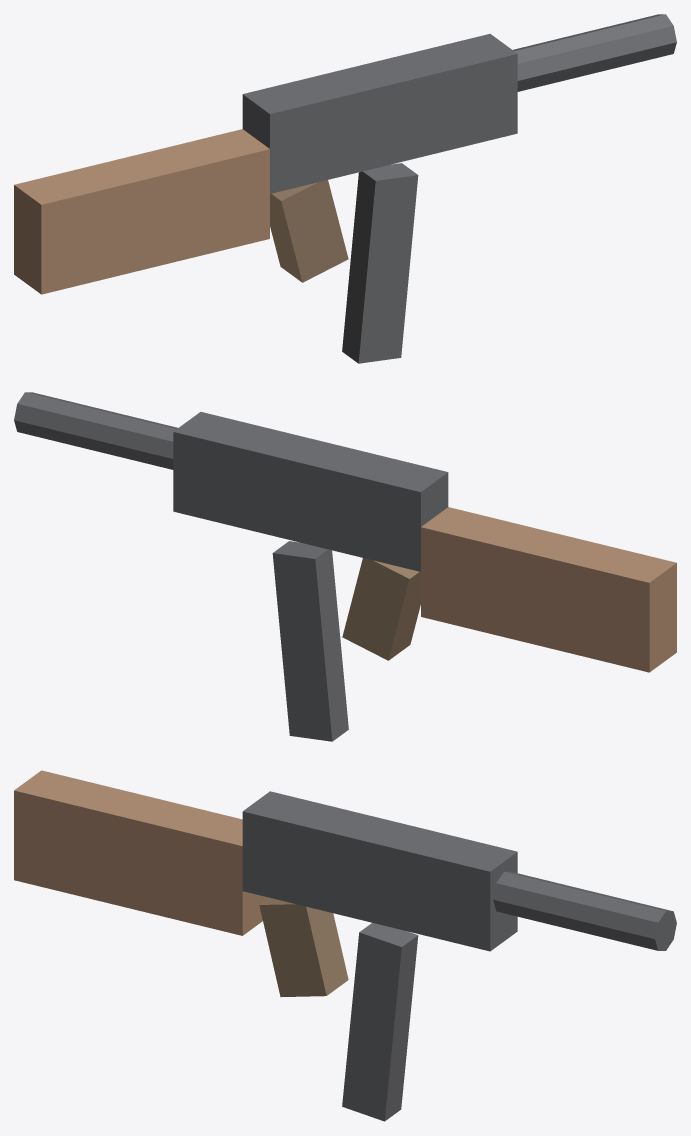
Rendered from held_weapon_homesmg.glb.
3 renders of one model, top to bottom at view 1: azimuth 30°, elevation 25°; view 2: azimuth 150°, elevation 25°; view 3: azimuth 330°, elevation 25°, orthographic.
Parts seen in each view (by area): view 1: held_weapon_homesmg; view 2: held_weapon_homesmg; view 3: held_weapon_homesmg.
Boxes of the visible parts, x1,y1,x2,y2 form: held_weapon_homesmg: [14, 14, 676, 363]; held_weapon_homesmg: [14, 392, 676, 741]; held_weapon_homesmg: [14, 770, 676, 1121].
Size of the model in its own units: 0.67 by 0.2818 by 0.05.
